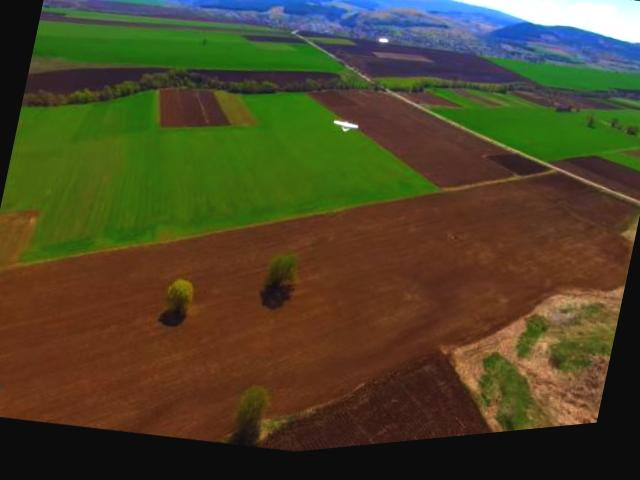uav: (324, 116, 364, 153)
